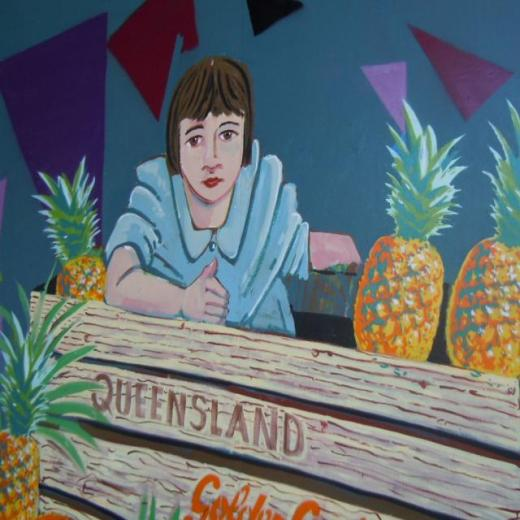Mango: (351, 99, 468, 366), (0, 276, 105, 519), (445, 99, 519, 379), (31, 151, 108, 298)
